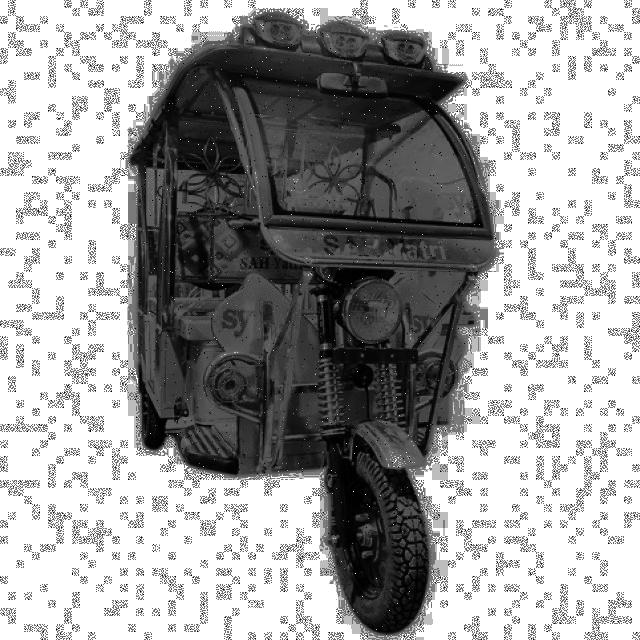Toto: (126, 46, 496, 632)
